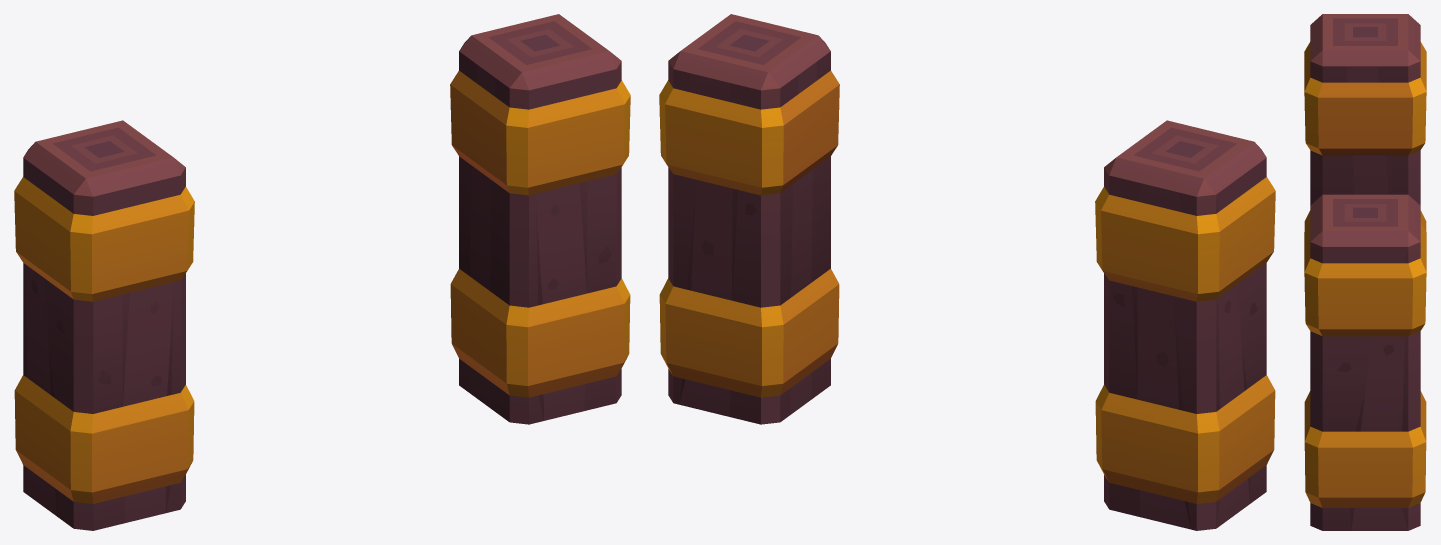
The model's file is frame.glb.
The picture shows the model from 3 angles, left to right: view 1: azimuth 30°, elevation 25°; view 2: azimuth 150°, elevation 25°; view 3: azimuth 270°, elevation 25°; orthographic projection. The views are drawn at different scales.
Visible parts, largest first — view 1: frame; view 2: frame; view 3: frame.
Boxes of the visible parts, x1,y1,x2,y2 form: frame: (14,14,630,530); frame: (659,14,1275,530); frame: (1304,14,1426,530).
Size of the model in its own units: 3.49 by 2.06 by 0.7755.
1 material, 1 textured.
